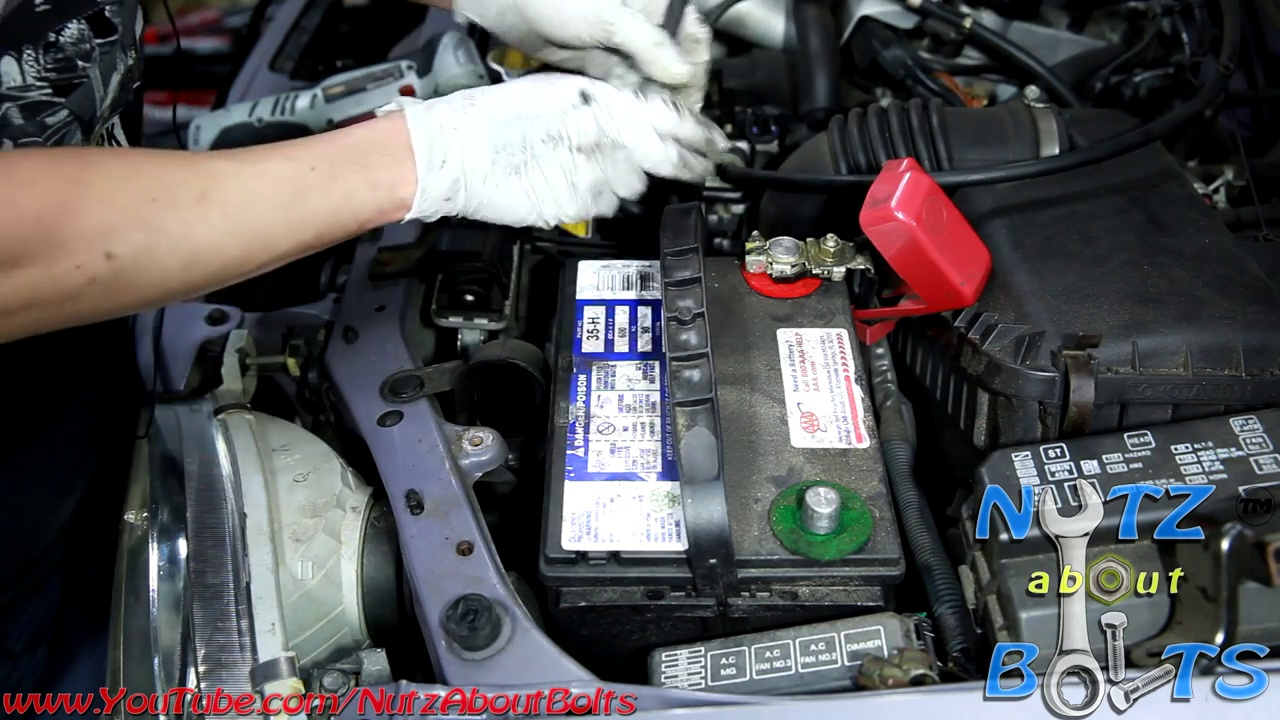battery: (553, 213, 921, 595)
neg_disconnected: (760, 452, 898, 563)
pos_connected: (724, 181, 923, 327)
